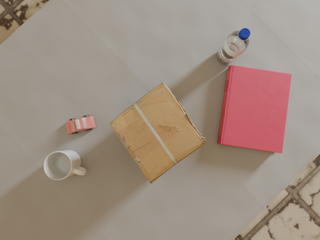book: (218, 65, 292, 153)
bottle: (218, 28, 250, 65)
box: (110, 82, 206, 183)
cup: (44, 150, 86, 180)
toy_car: (66, 115, 96, 134)
